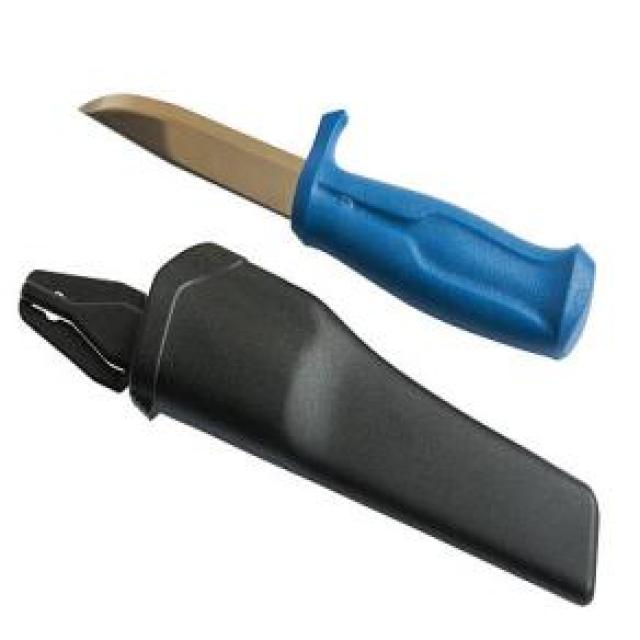knife: (74, 79, 598, 359)
